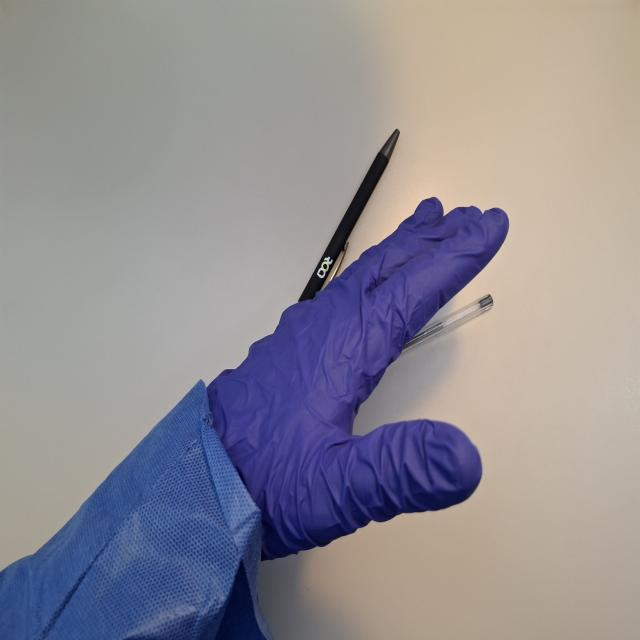glove_on: (188, 193, 512, 570)
